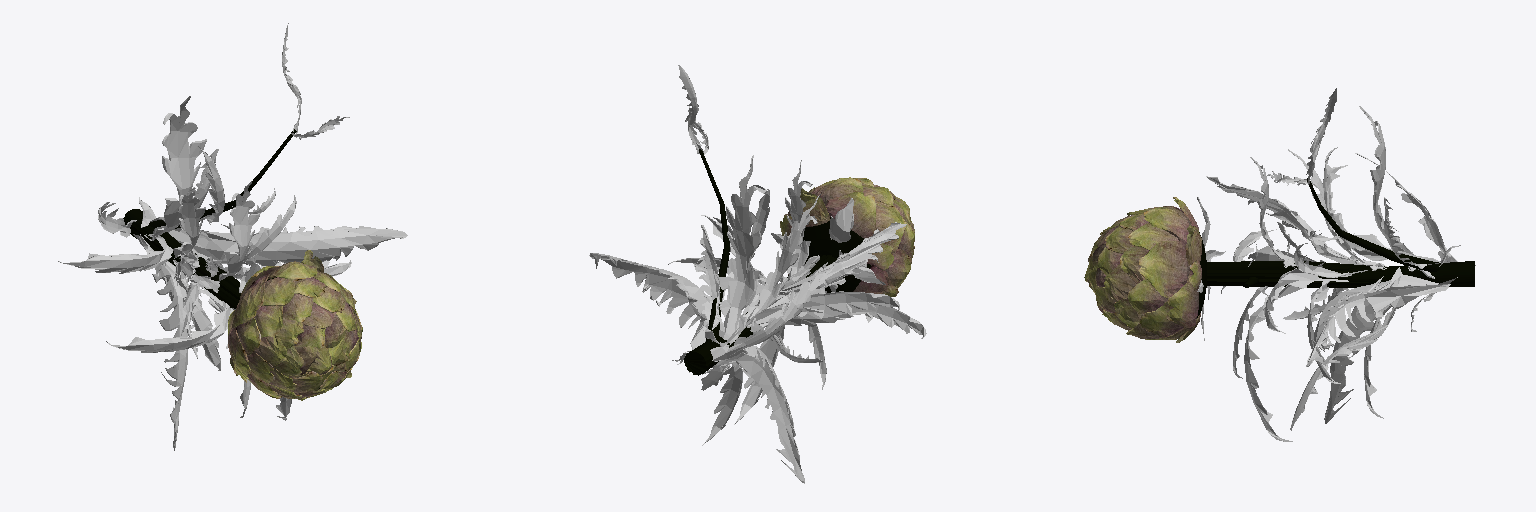
The picture shows the model from 3 angles: view 1: azimuth 30°, elevation 25°; view 2: azimuth 150°, elevation 25°; view 3: azimuth 270°, elevation 25°; orthographic projection.
Visible parts, largest first — view 1: plant_Cylinder.011; view 2: plant_Cylinder.011; view 3: plant_Cylinder.011.
Boxes of the visible parts, box(x1,y1,x2,y2) form: plant_Cylinder.011: box(58, 23, 407, 450); plant_Cylinder.011: box(589, 65, 926, 483); plant_Cylinder.011: box(1084, 88, 1475, 441).
Bounding box in the file's own units: 1.23 × 1.4 × 1.26.
Materials: 3 (1 with a texture image).